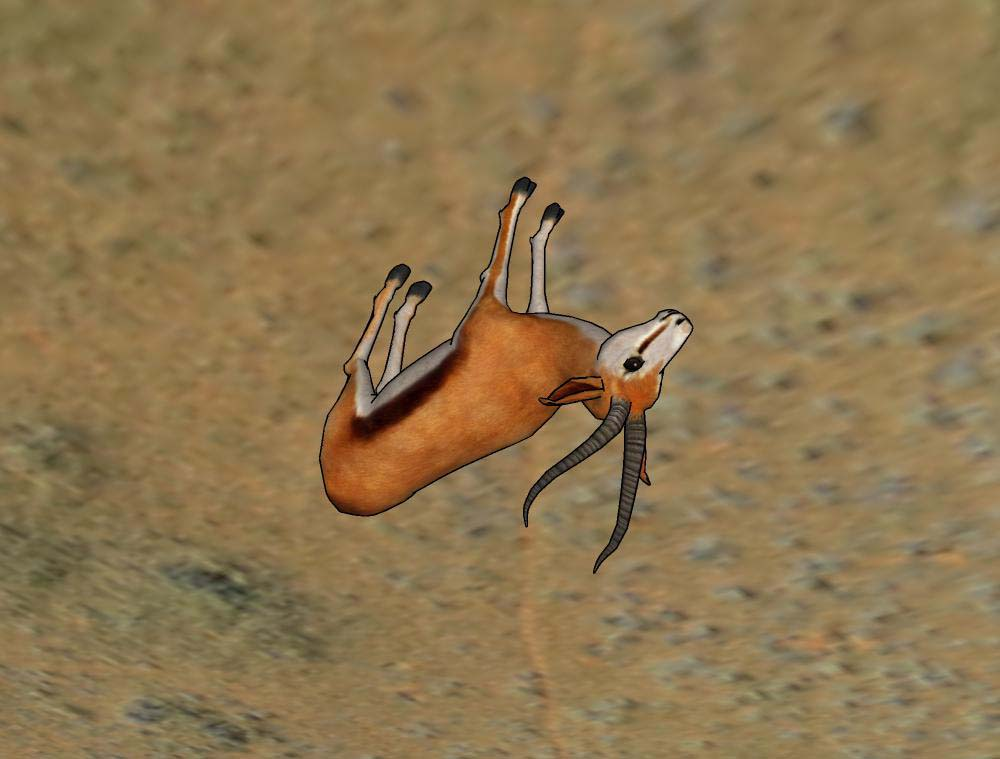springbok: (309, 171, 696, 579)
